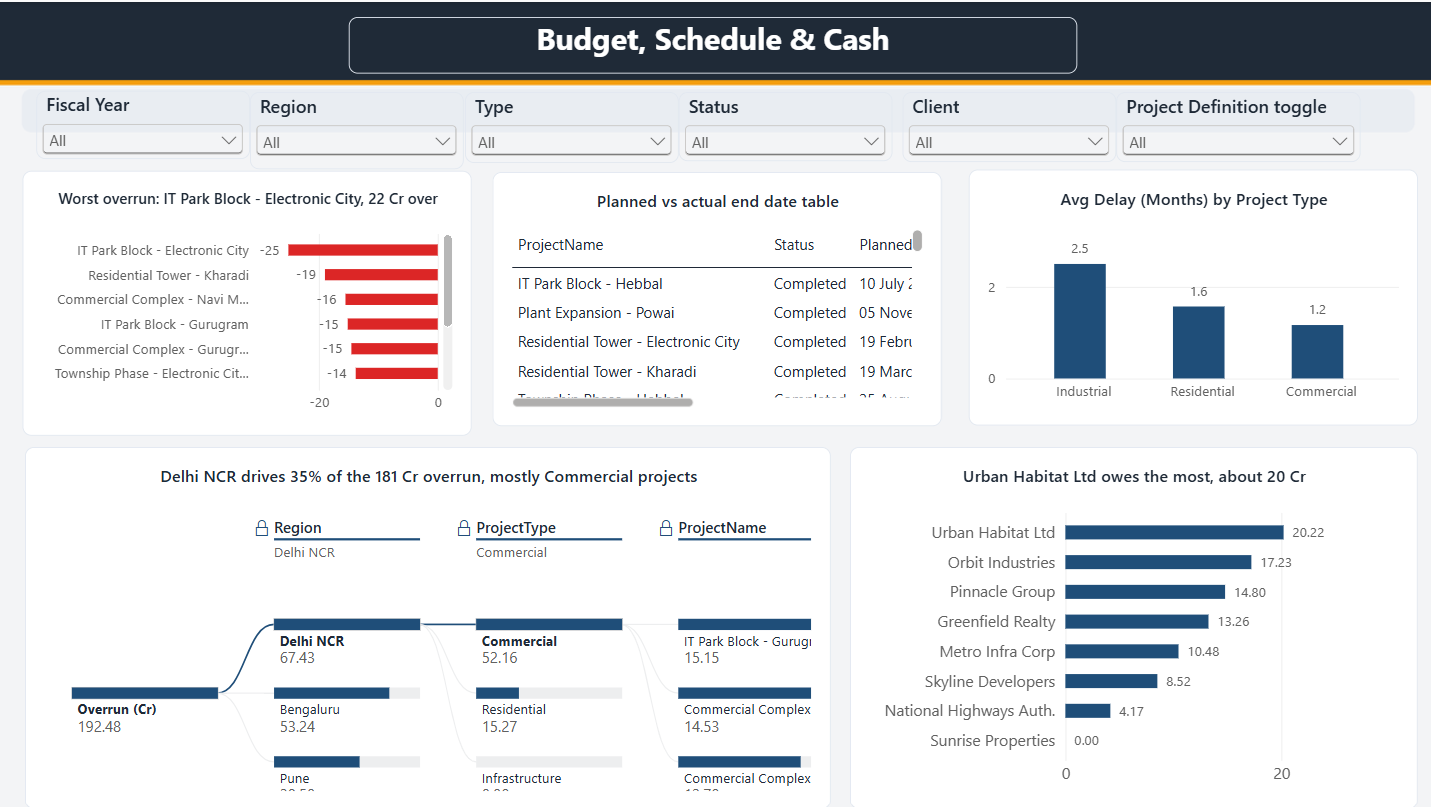

This screenshot's page, from the dashboard's own definition file:
{"tool":"powerbi","page":{"name":"Budget, Schedule & Cash","canvas":[1280,720],"ordinal":2},"visuals":[{"type":"clusteredBarChart","title":"Worst overrun: IT Park Block - Electronic City, 22 Cr over","fields":{"Category":["DimProject.ProjectName"],"Y":["_Measures.Cost Variance (Cr)"]},"box":[19.8,150,400,236],"z":0},{"type":"tableEx","title":"Planned vs actual end date table","fields":{"Values":["DimProject.ProjectName","DimProject.Status","DimProject.PlannedEndDate","DimProject.ActualEndDate","_Measures.Avg Delay (Months)","_Measures.Schedule Status"]},"box":[438.4,151.2,400,226.7],"z":1000},{"type":"decompositionTreeVisual","title":"Delhi NCR drives 35% of the 181 Cr overrun, mostly Commercial projects","fields":{"Analyze":["_Measures.Overrun (Cr)"],"ExplainBy":["DimProject.Region","DimProject.ProjectType","DimProject.ProjectName"]},"box":[22.1,396.5,717.4,323.3],"z":2000},{"type":"barChart","title":"Urban Habitat Ltd owes the most, about 20 Cr","fields":{"Category":["DimProject.Client"],"Y":["_Measures.Outstanding (Cr)"]},"box":[757,396.3,505.4,322.8],"z":3000},{"type":"columnChart","title":"Industrial projects slip most: 2.5 months against 1.2 for Commercial","fields":{"Category":["DimProject.ProjectType"],"Y":["_Measures.Avg Delay (Months)"]},"box":[1310.3,220.2,583,449.4],"z":4000},{"type":"textbox","box":[1585,697,308,383],"z":5000},{"type":"textbox","box":[311,13.8,649,50],"z":6000},{"type":"slicer","fields":{"Values":["DimDate.FiscalYear"]},"box":[32,79,190,61],"z":7000},{"type":"slicer","fields":{"Values":["DimProject.Region"]},"box":[223,80,190,69],"z":8000},{"type":"slicer","fields":{"Values":["DimProject.ProjectType"]},"box":[414,80,190,63],"z":9000},{"type":"slicer","fields":{"Values":["DimProject.Status"]},"box":[605,80,190,61.2],"z":10000},{"type":"slicer","fields":{"Values":["DimProject.Client"]},"box":[803.8,80,190,62],"z":11000},{"type":"slicer","fields":{"Values":["ProfitDef.Definition"]},"box":[993.8,80,217.5,62.5],"z":12000},{"type":"columnChart","title":"Avg Delay (Months) by Project Type","fields":{"Category":["DimProject.ProjectType"],"Y":["_Measures.Avg Delay (Months)"]},"box":[862.8,148.8,400,227.9],"z":12001}]}

Visuals, with their boxes in screenshot pixels (x1, y1, x2, y2), scaled from the page's 1280x720 canvas onto the 1431x807 screenshot:
"Worst overrun: IT Park Block - Electronic City, 22 Cr over" clusteredBarChart: (x1=22, y1=168, x2=469, y2=433)
"Planned vs actual end date table" tableEx: (x1=490, y1=169, x2=937, y2=424)
"Delhi NCR drives 35% of the 181 Cr overrun, mostly Commercial projects" decompositionTreeVisual: (x1=25, y1=444, x2=827, y2=806)
"Urban Habitat Ltd owes the most, about 20 Cr" barChart: (x1=846, y1=444, x2=1411, y2=806)
textbox: (x1=348, y1=15, x2=1073, y2=72)
slicer - DimDate.FiscalYear: (x1=36, y1=89, x2=248, y2=157)
slicer - DimProject.Region: (x1=249, y1=90, x2=462, y2=167)
slicer - DimProject.ProjectType: (x1=463, y1=90, x2=675, y2=160)
slicer - DimProject.Status: (x1=676, y1=90, x2=889, y2=158)
slicer - DimProject.Client: (x1=899, y1=90, x2=1111, y2=159)
slicer - ProfitDef.Definition: (x1=1111, y1=90, x2=1354, y2=160)
"Avg Delay (Months) by Project Type" columnChart: (x1=965, y1=167, x2=1412, y2=422)
